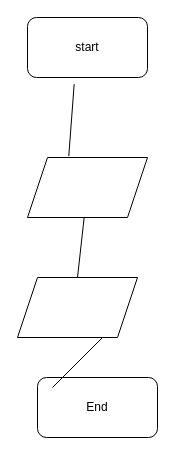
The diagram is 175 pixels wide and 455 high, and some of its shapes have lost their labels. Here are the shapes that lost their labels. From the top down, the centre of each, then its label:
At (x=87, y=187): "Hello word".
At (x=77, y=307): "hello world".
